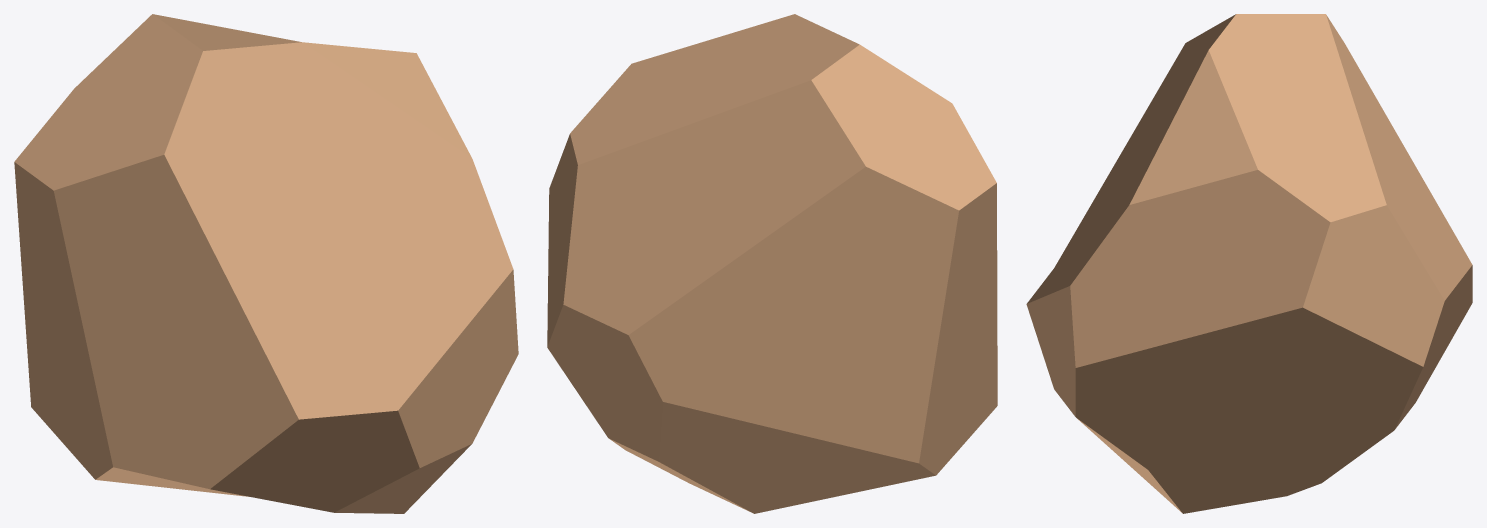
The model's file is rock_4a.fbx.
The picture shows the model from 3 angles, left to right: view 1: azimuth 30°, elevation 25°; view 2: azimuth 150°, elevation 25°; view 3: azimuth 270°, elevation 25°; orthographic projection. The views are drawn at different scales.
Visible parts, largest first — view 1: rock_4a; view 2: rock_4a; view 3: rock_4a.
Boxes of the visible parts, <box> form: rock_4a: <box>14,14,518,513</box>; rock_4a: <box>547,14,997,513</box>; rock_4a: <box>1026,14,1472,513</box>.
Size of the model in its own units: 71.05 by 75.76 by 71.84.
